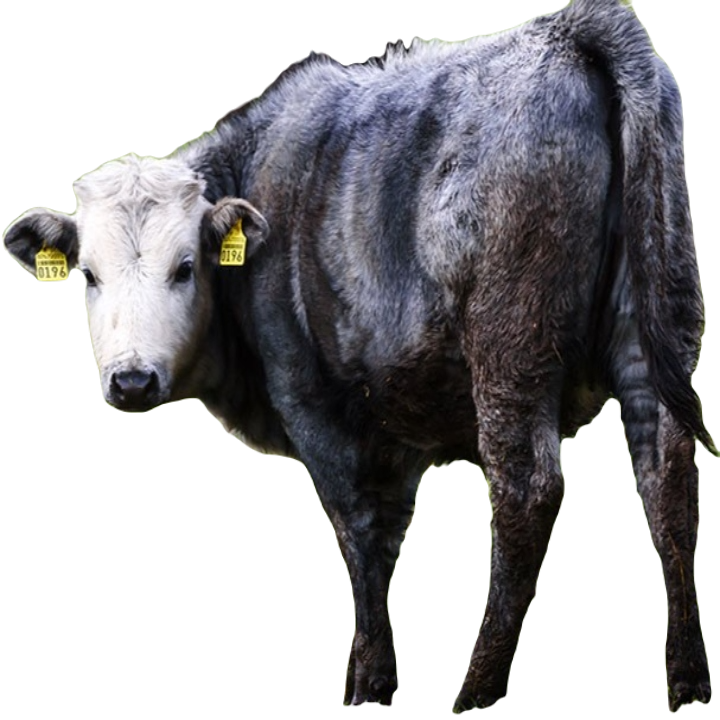Cow: (5, 0, 717, 716)
